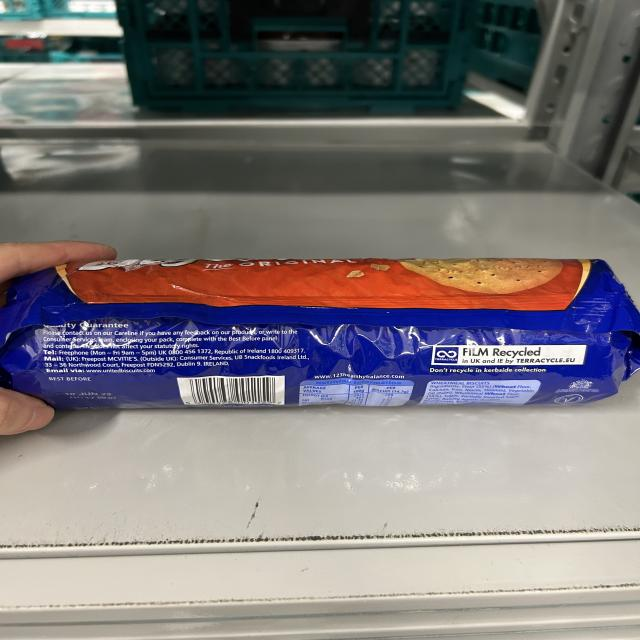object_name: (3, 261, 636, 400)
